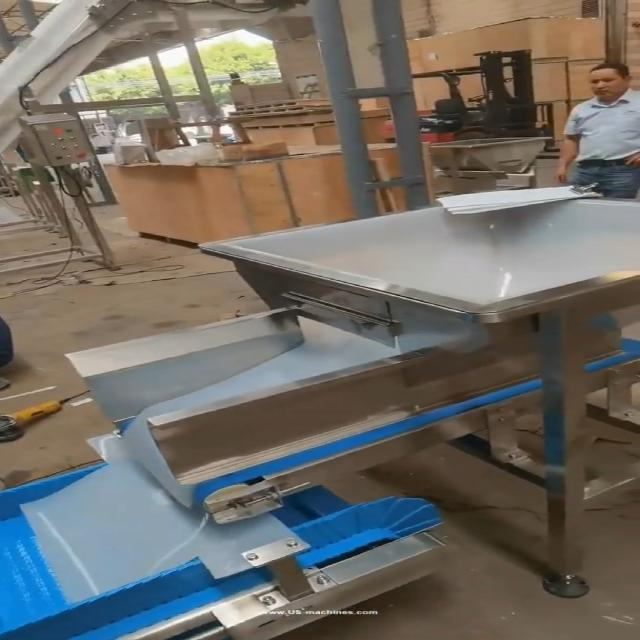Convoyeur: (0, 460, 488, 640)
